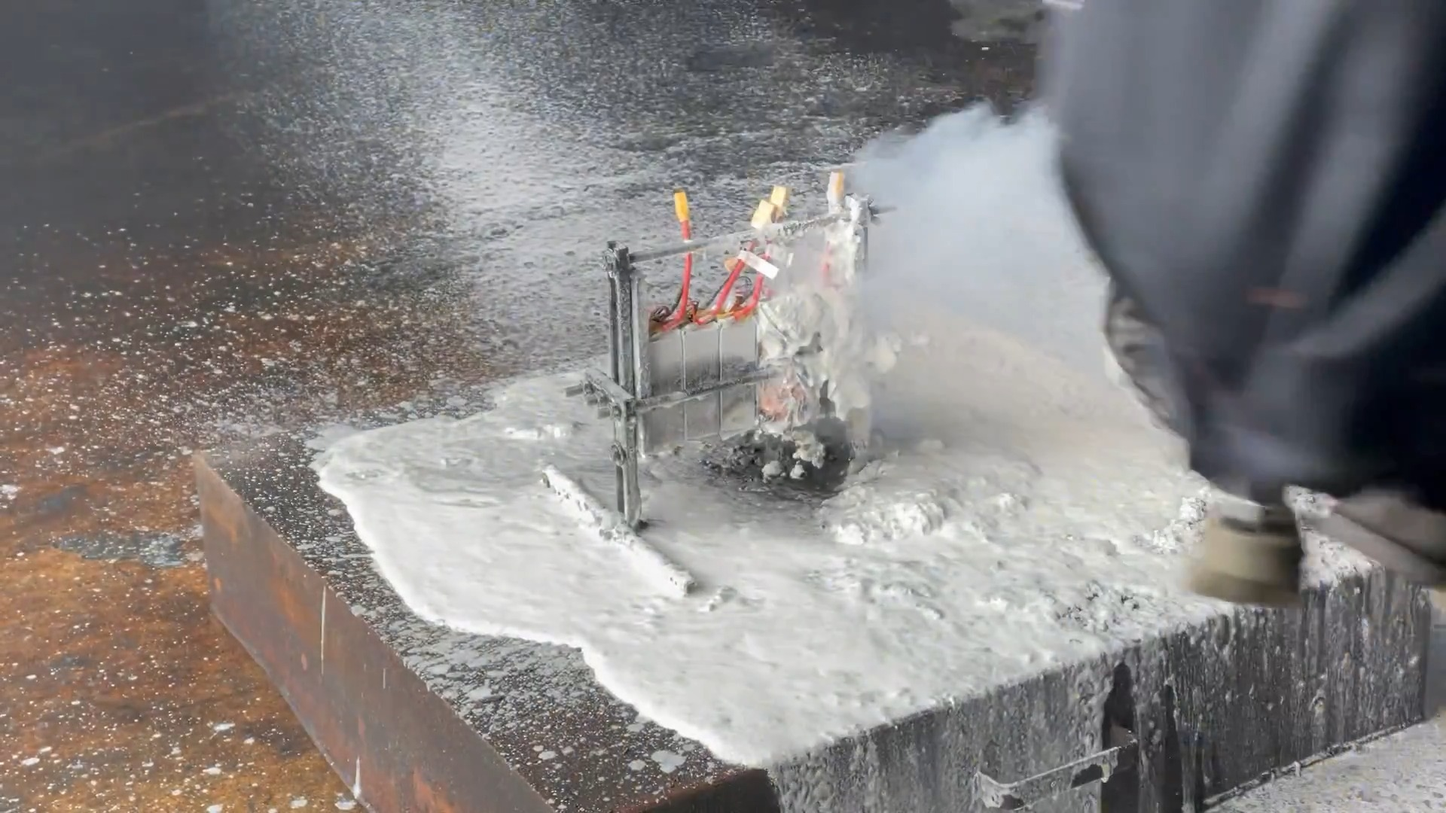smoke: (768, 89, 1192, 551)
